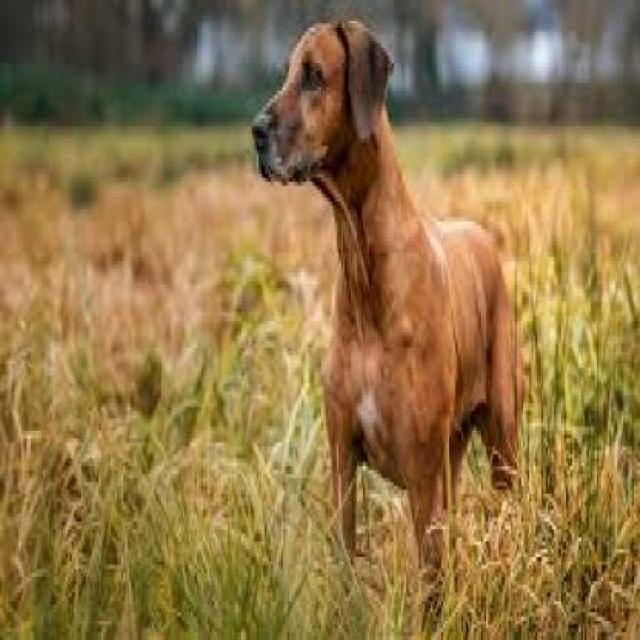animals: (244, 9, 524, 600)
